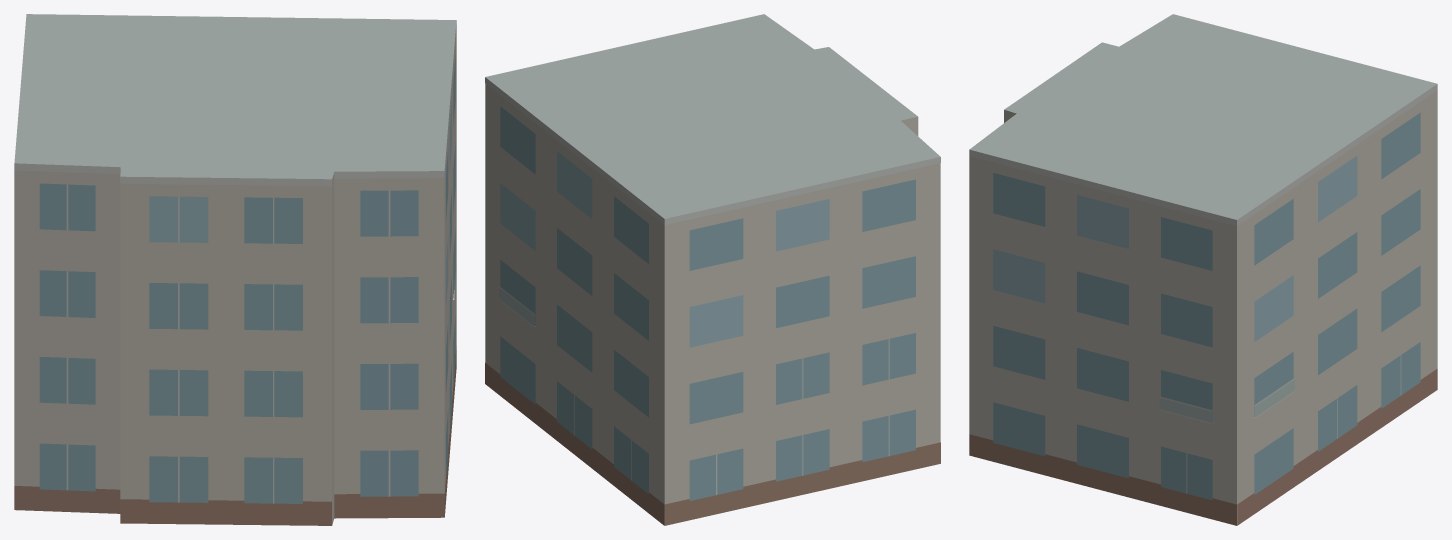
File: survey-upis-32732711.glb
The picture shows the model from 3 angles, left to right: view 1: azimuth 30°, elevation 25°; view 2: azimuth 150°, elevation 25°; view 3: azimuth 270°, elevation 25°; orthographic projection. The views are drawn at different scales.
Visible parts, largest first — view 1: survey-upis-32732711.tmp; view 2: survey-upis-32732711.tmp; view 3: survey-upis-32732711.tmp.
Part boxes in pixels (x1,y1,x2,y2): survey-upis-32732711.tmp: [14, 14, 456, 525]; survey-upis-32732711.tmp: [485, 14, 940, 525]; survey-upis-32732711.tmp: [969, 14, 1437, 525].
Bounding box in the file's own units: 17.48 × 12.1 × 16.8.
